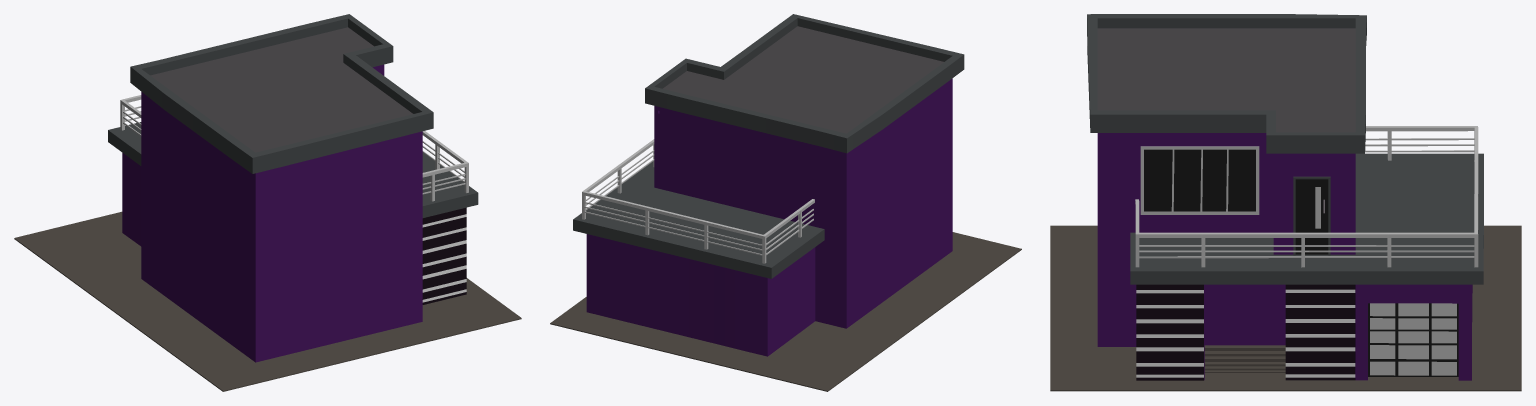
File: Building_House3_Purple.fbx
3 renders of one model, left to right at view 1: azimuth 30°, elevation 25°; view 2: azimuth 150°, elevation 25°; view 3: azimuth 270°, elevation 25°, orthographic. The views are drawn at different scales.
Parts seen in each view (by area): view 1: Cube, Plane, Plane.002; view 2: Cube, Plane; view 3: Cube, Plane, Plane.003, Plane.001.
Part boxes in pixels (left/top/right/bottom): Cube: left=108, top=14, right=478, bottom=362; Plane: left=14, top=211, right=521, bottom=391; Plane.002: left=422, top=207, right=466, bottom=304; Cube: left=573, top=14, right=964, bottom=356; Plane: left=550, top=232, right=1021, bottom=391; Cube: left=1087, top=14, right=1483, bottom=380; Plane: left=1050, top=225, right=1521, bottom=391; Plane.003: left=1285, top=284, right=1355, bottom=380; Plane.001: left=1136, top=284, right=1203, bottom=380.
Bounding box in the file's own units: 1100 × 757 × 1333.
